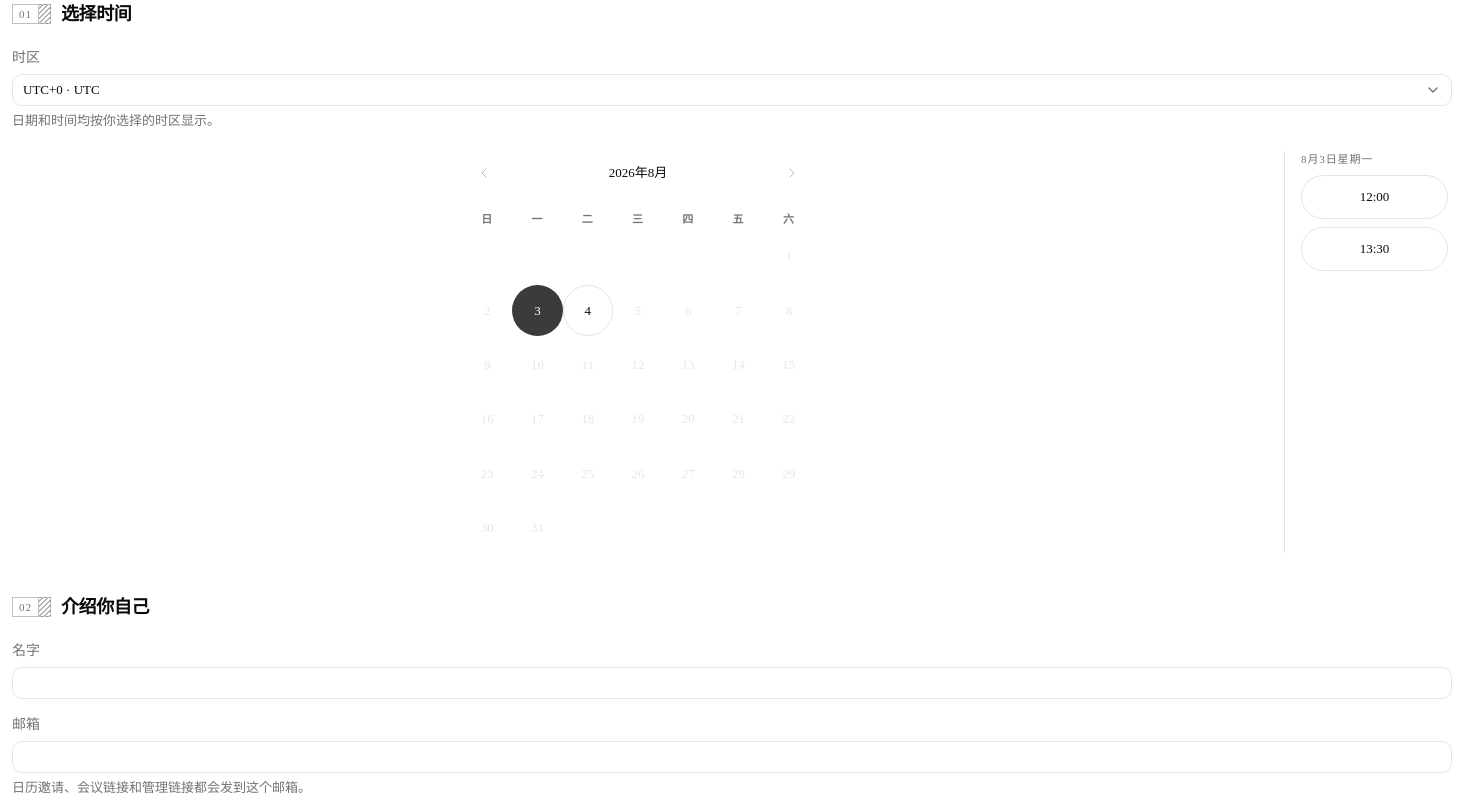
Test: BookingFlow › uses a calendar date picker and only shows times for the chosen day
The width and height of the screenshot is (1464, 810).
Check: the element that starts with "2026年8月" is shown, box [462,151,814,553]
Check: the dropdown is shown, box [12,74,1452,106]
What coordinates should you click on to do the following:
click the button "12:00"
I would click on:
 (1374, 197)
Its box is [1301,175,1448,219].
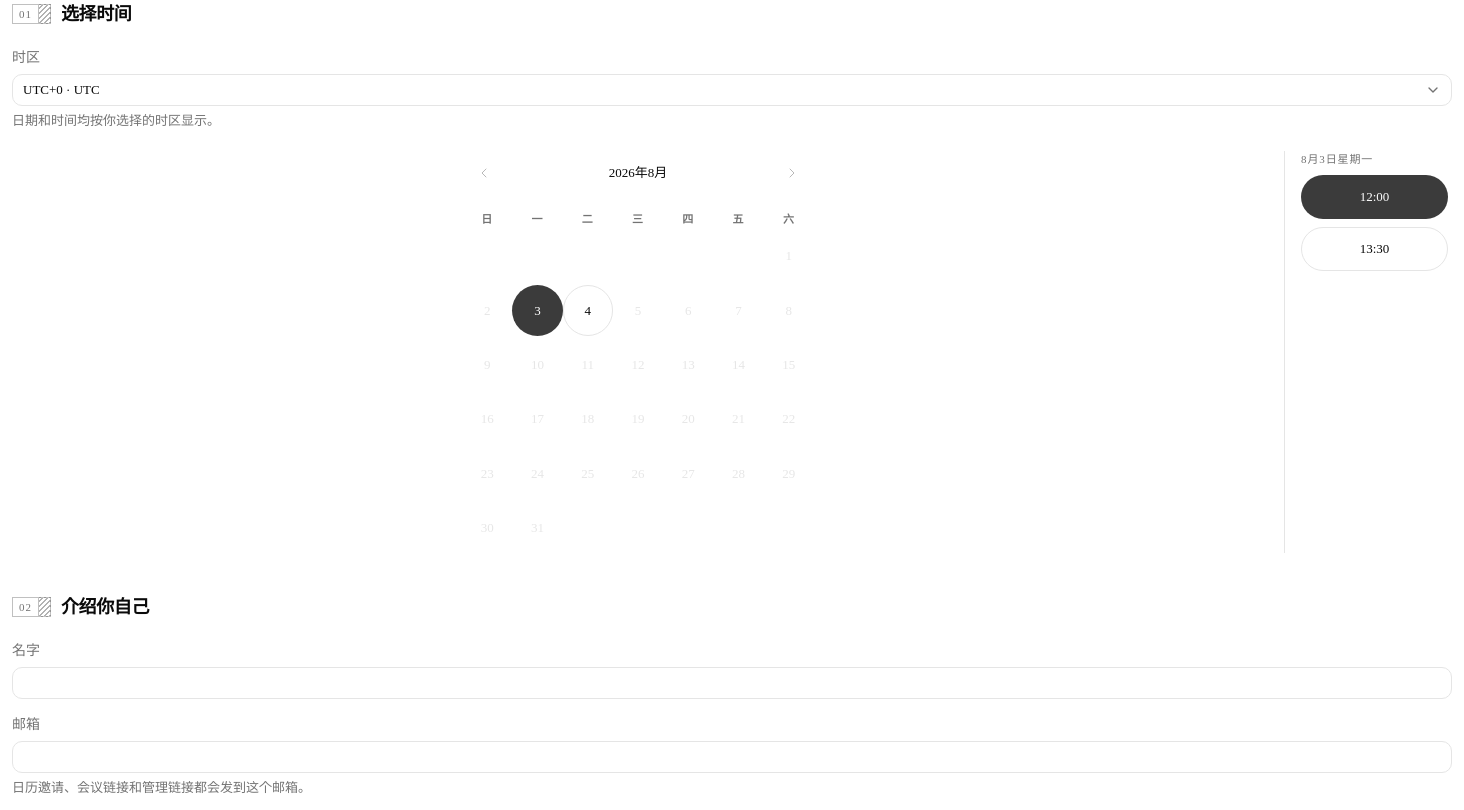
Check: the button "12:00" is pressed, box [1301,175,1448,219]
What coordinates should you click on to do the following:
click the button "4"
I would click on:
 (588, 310)
Its box is [563,285,613,336].
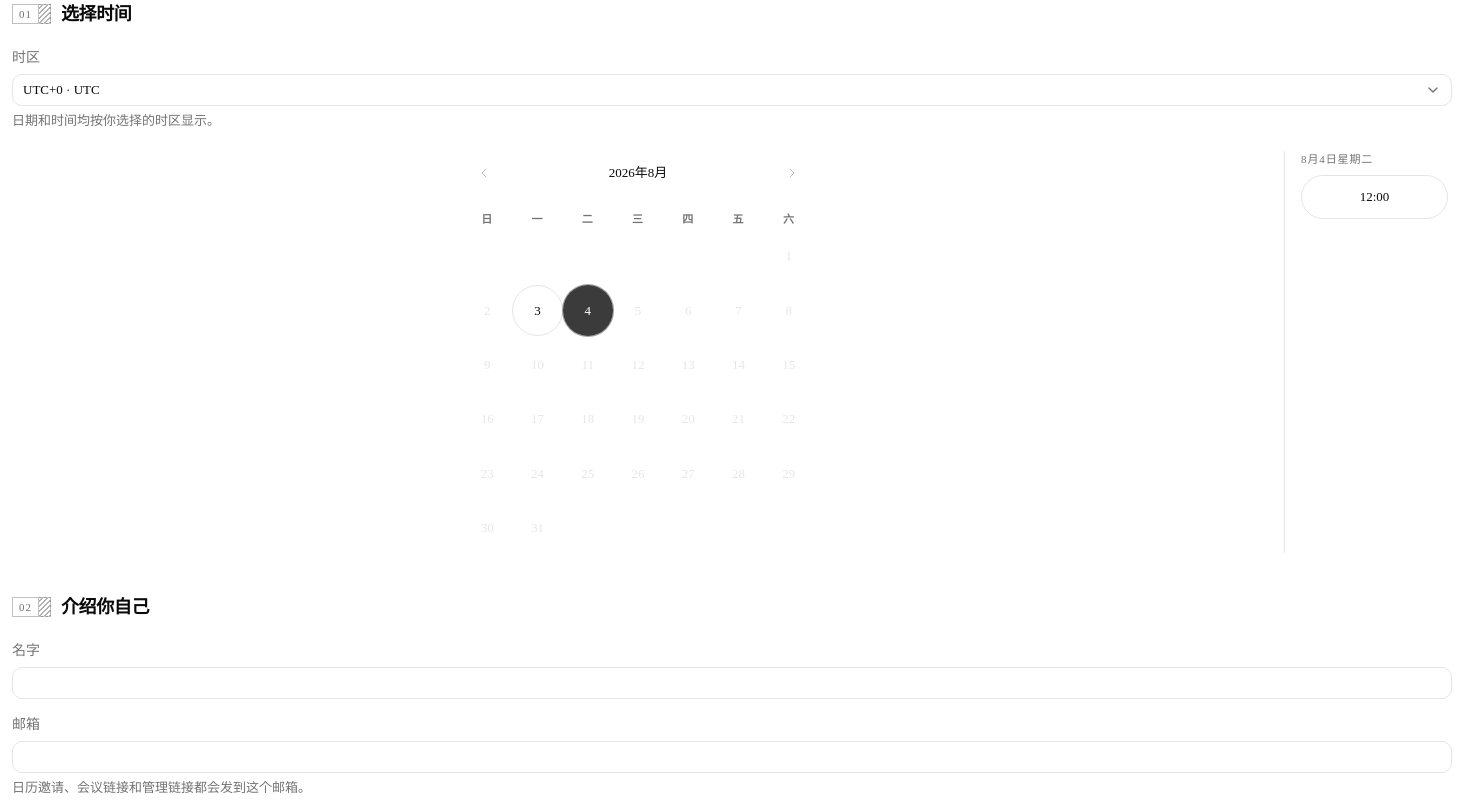
Check: the button "12:00" is not pressed, box [1301,175,1448,219]
